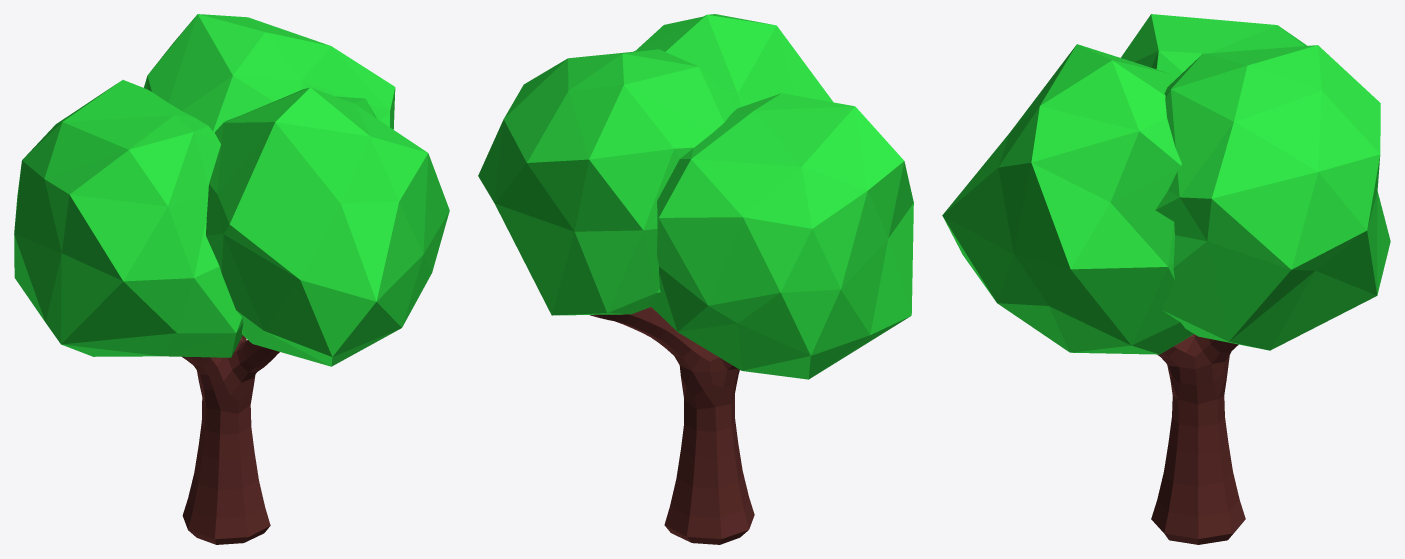
Rendered from Tree.fbx.
3 renders of one model, left to right at view 1: azimuth 30°, elevation 25°; view 2: azimuth 150°, elevation 25°; view 3: azimuth 270°, elevation 25°, orthographic. The views are drawn at different scales.
Visible parts, largest first — view 1: Icosphere, Plane; view 2: Icosphere, Plane; view 3: Icosphere, Plane.
Boxes of the visible parts, box(x1,y1,x2,y2) form: Icosphere: box(14, 14, 449, 366); Plane: box(182, 335, 279, 544); Icosphere: box(478, 14, 913, 379); Plane: box(590, 307, 754, 544); Icosphere: box(942, 14, 1390, 354); Plane: box(1151, 334, 1245, 544).
Bounding box in the file's own units: 423 × 525 × 425.
